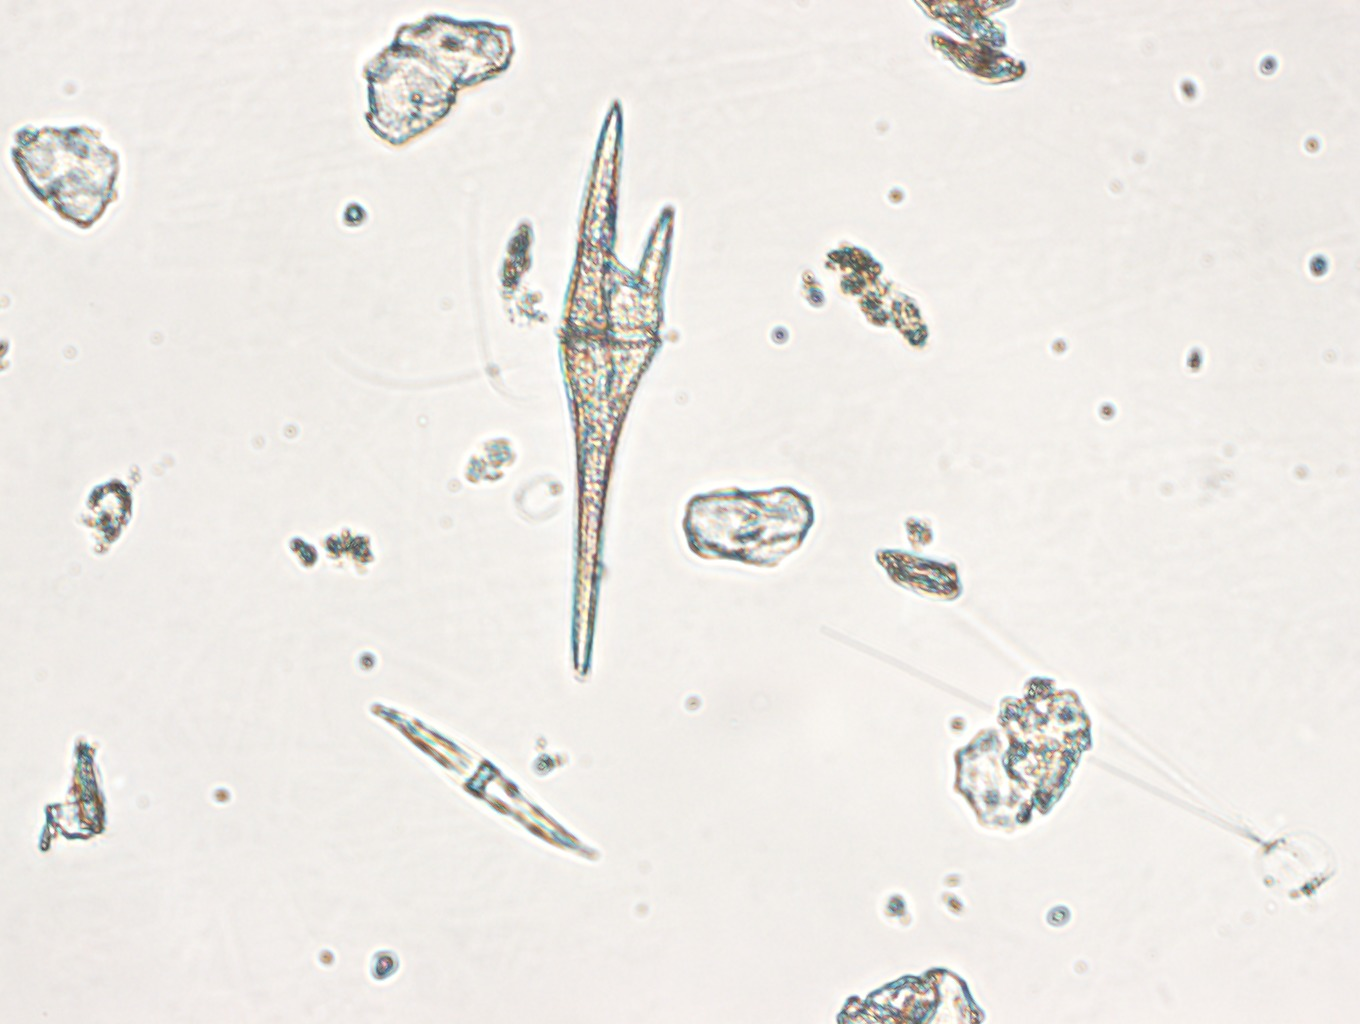ceratium furca: (539, 104, 682, 685)
pleurosigma pelagicum: (369, 699, 609, 872)
